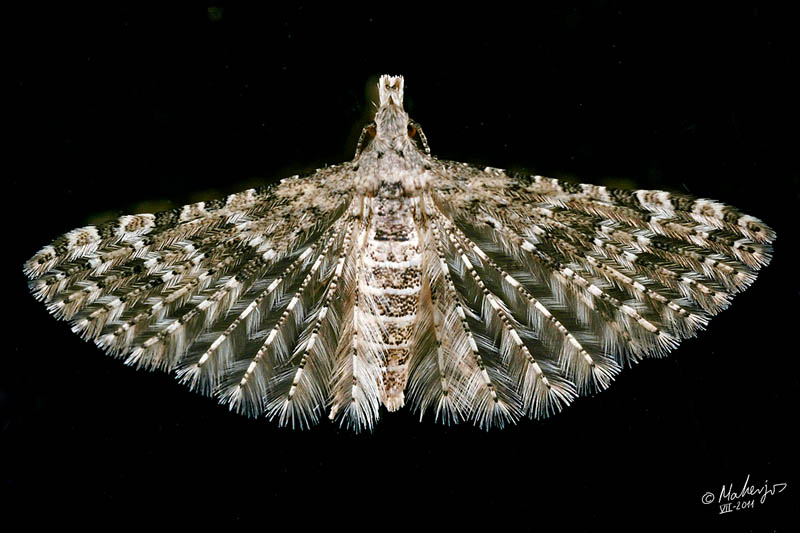Alucitidae: (23, 64, 777, 435)
moth: (25, 66, 779, 437)
